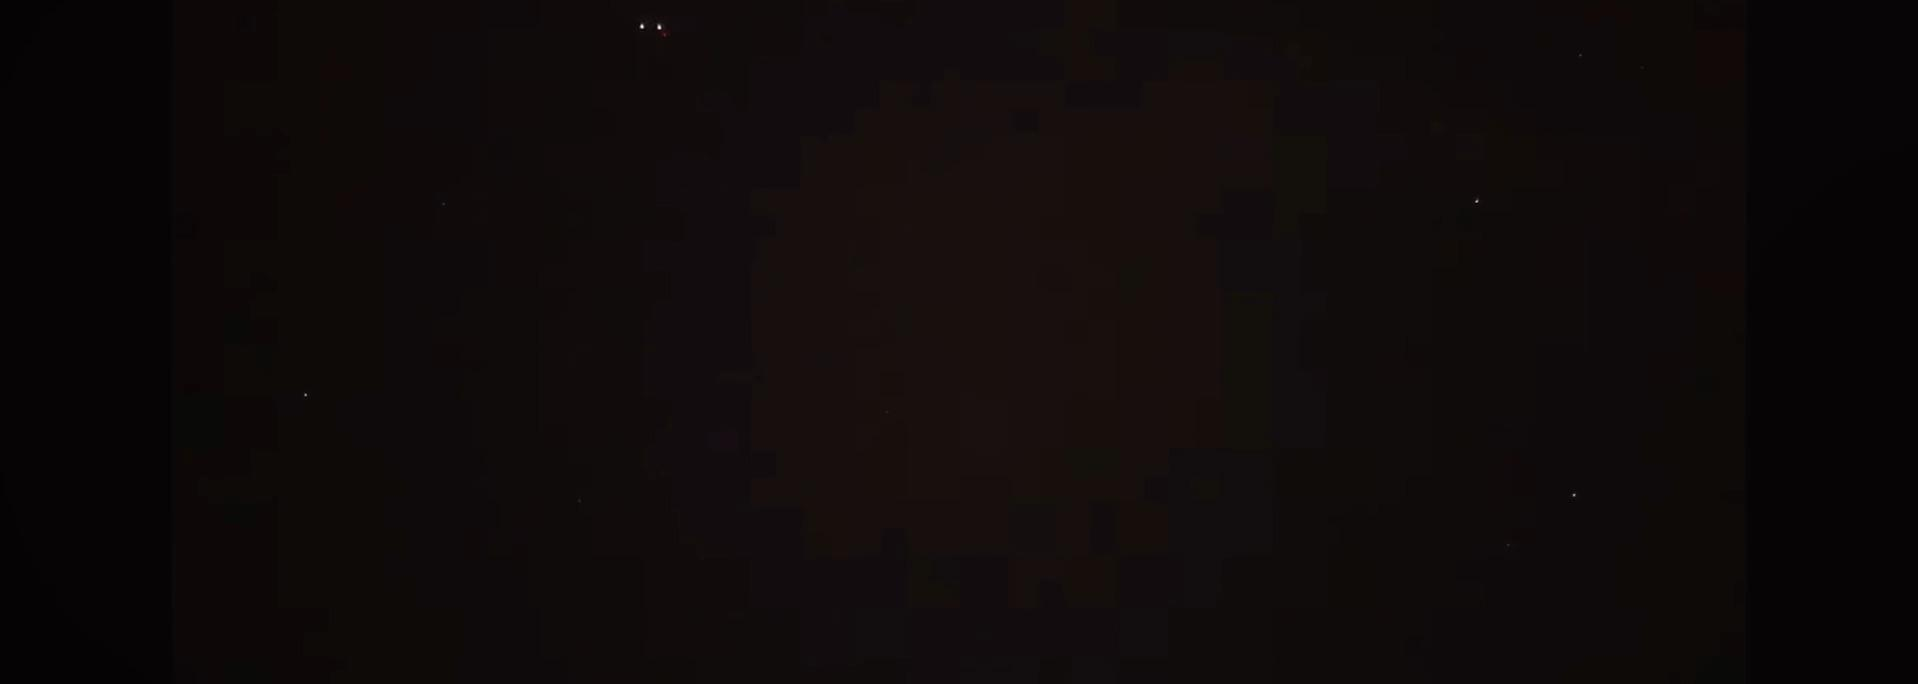Plane: (605, 11, 701, 46)
